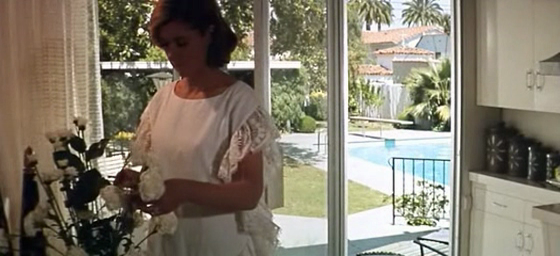face: (160, 31, 199, 75)
ms: (1, 1, 560, 256)
person: (113, 1, 281, 255)
